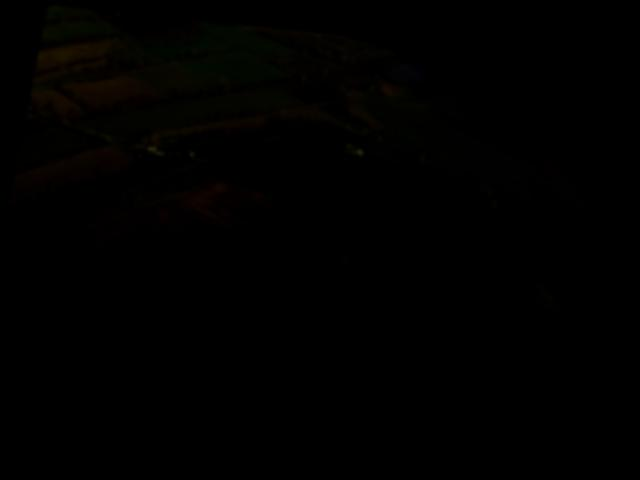iha: (328, 302, 442, 389)
